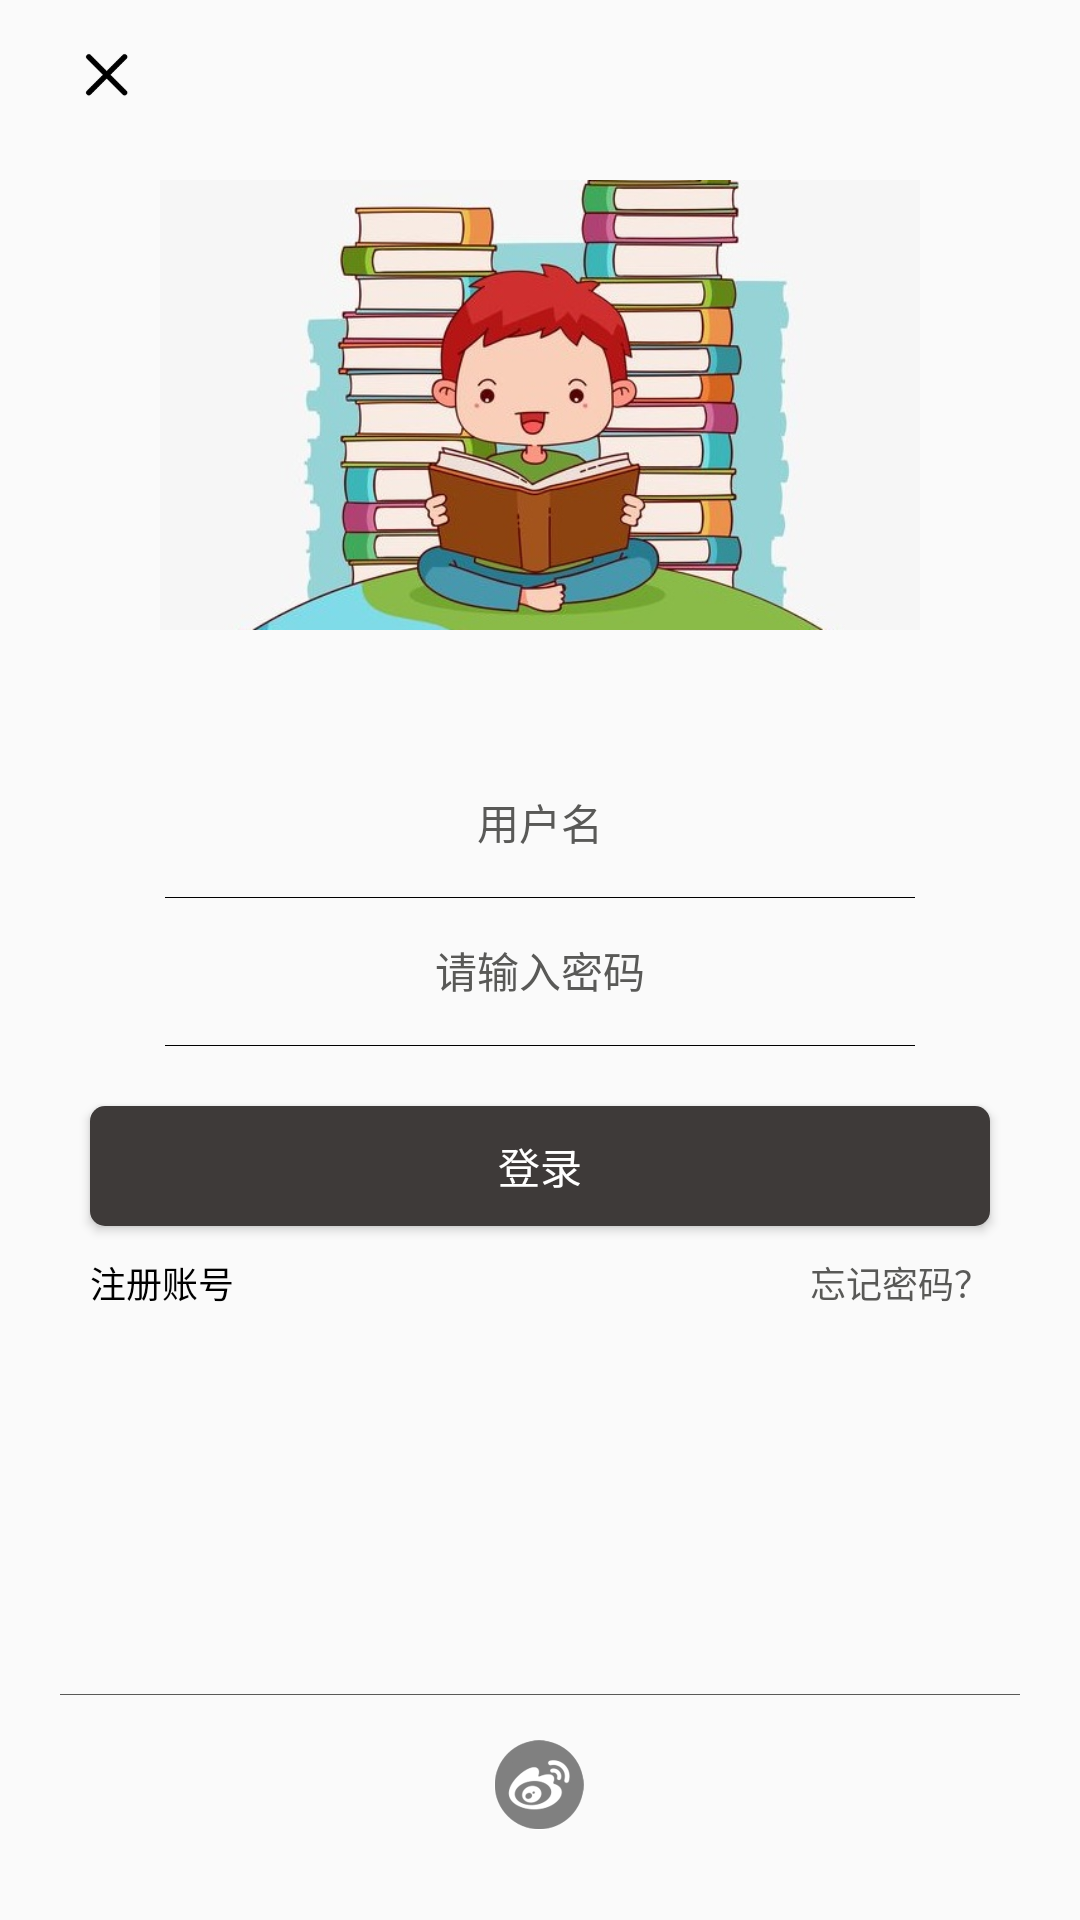

Icons on this 1080 x 1920 Android screen, each with its box as [x1=x1, y1=y1, x2=x2, y2=y2]:
close: [x1=86, y1=54, x2=128, y2=96]
